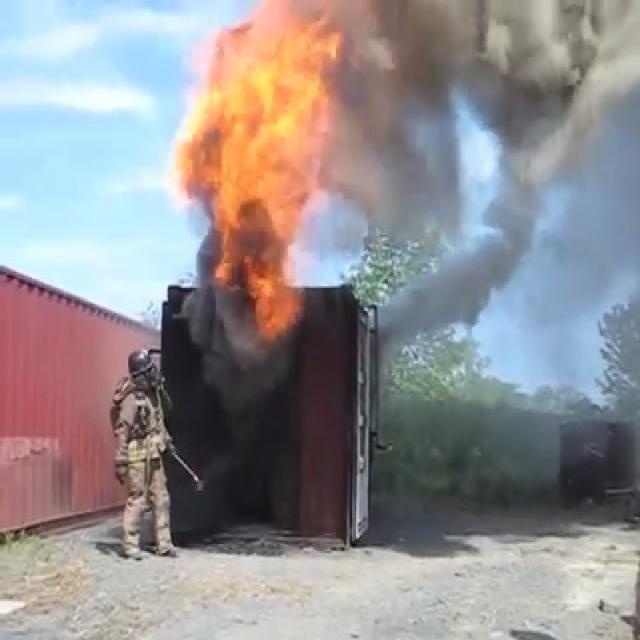Fire: (199, 12, 328, 280)
Smoke: (376, 5, 634, 144)
